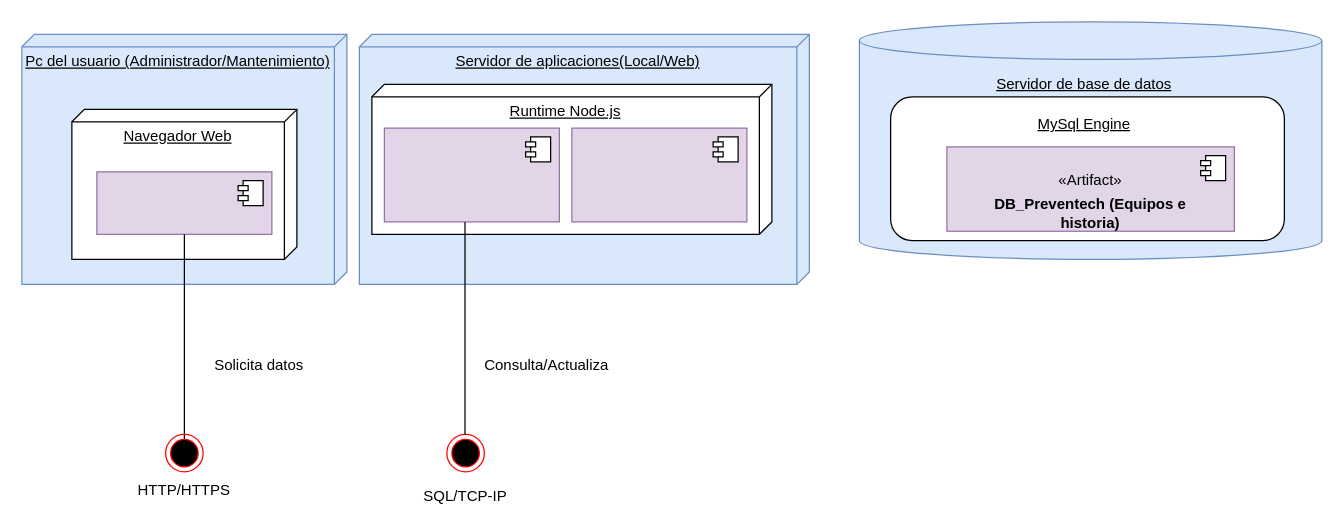
The diagram is 1344 pixels wide and 531 high, and some of its shapes have lost their labels. The shapes that lost their labels are listed below. From the top down, each one's centre as x and y in pixels, then its label:
At (471,174): "«Artifact» API Express (Backend)".
At (659,174): "«Artifact» Lógica de fechas (JS date)".
At (184,202): "«Artifact» Interfaz React (Frontend)".
